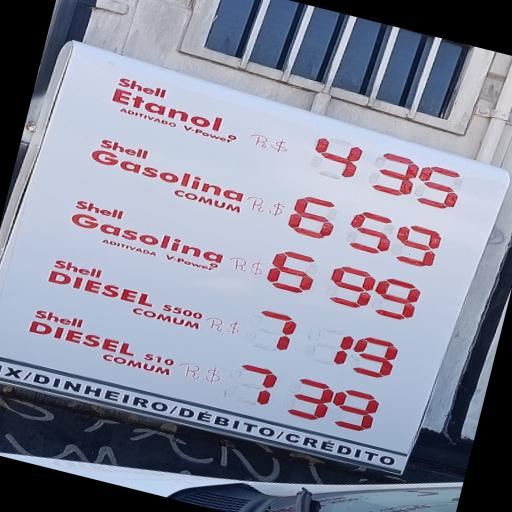ETANOL: (96, 67, 261, 156)
GASOLINA AD: (47, 188, 240, 288)
GASOLINA C: (91, 132, 267, 220)
S10: (20, 300, 193, 390)
S500: (32, 252, 214, 342)
placa: (0, 44, 507, 456)
preco: (287, 125, 487, 226), (271, 190, 463, 285), (260, 243, 434, 335), (243, 304, 420, 389), (228, 355, 397, 442)
